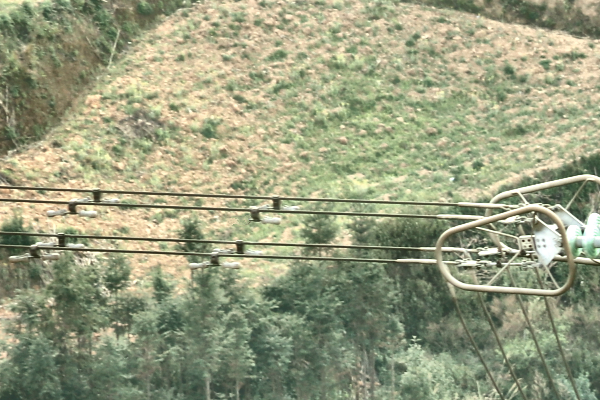damper: (5, 242, 61, 266), (187, 249, 242, 271), (208, 237, 264, 258), (30, 230, 86, 250), (44, 199, 99, 219), (247, 193, 300, 213), (68, 186, 121, 204)
damper_defect: (241, 204, 281, 227)
